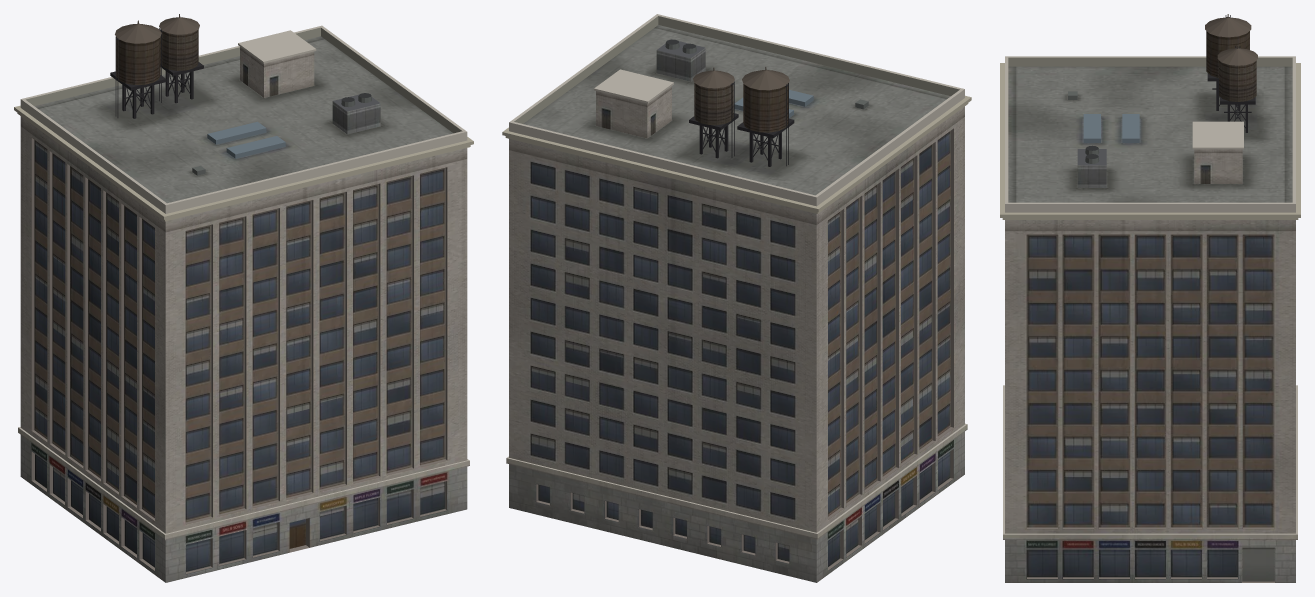
The model's file is nyc_prewar_c.glb.
The picture shows the model from 3 angles, left to right: view 1: azimuth 30°, elevation 25°; view 2: azimuth 150°, elevation 25°; view 3: azimuth 270°, elevation 25°; orthographic projection. The views are drawn at different scales.
Parts seen in each view (by area): view 1: nyc_prewar_c; view 2: nyc_prewar_c; view 3: nyc_prewar_c.
Part boxes in pixels (box(x1,y1,x2,y2)): nyc_prewar_c: box(14, 14, 473, 582); nyc_prewar_c: box(502, 14, 971, 582); nyc_prewar_c: box(1000, 14, 1300, 582).
Size of the model in its own units: 37 by 52.55 by 31.
1 material, 1 textured.
